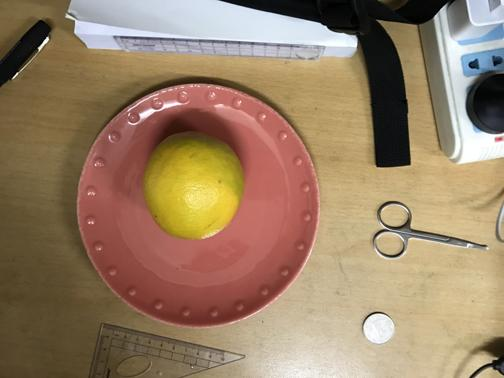coin: (361, 311, 395, 345)
orange: (144, 133, 245, 240)
